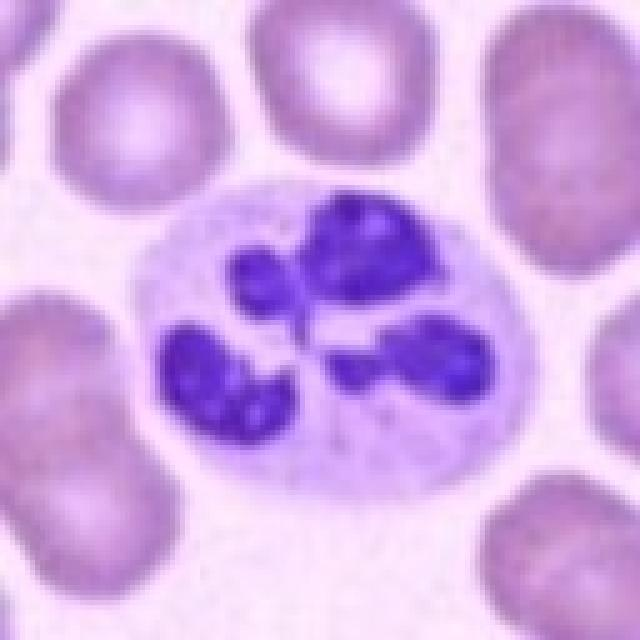neutro: (43, 148, 572, 518)
